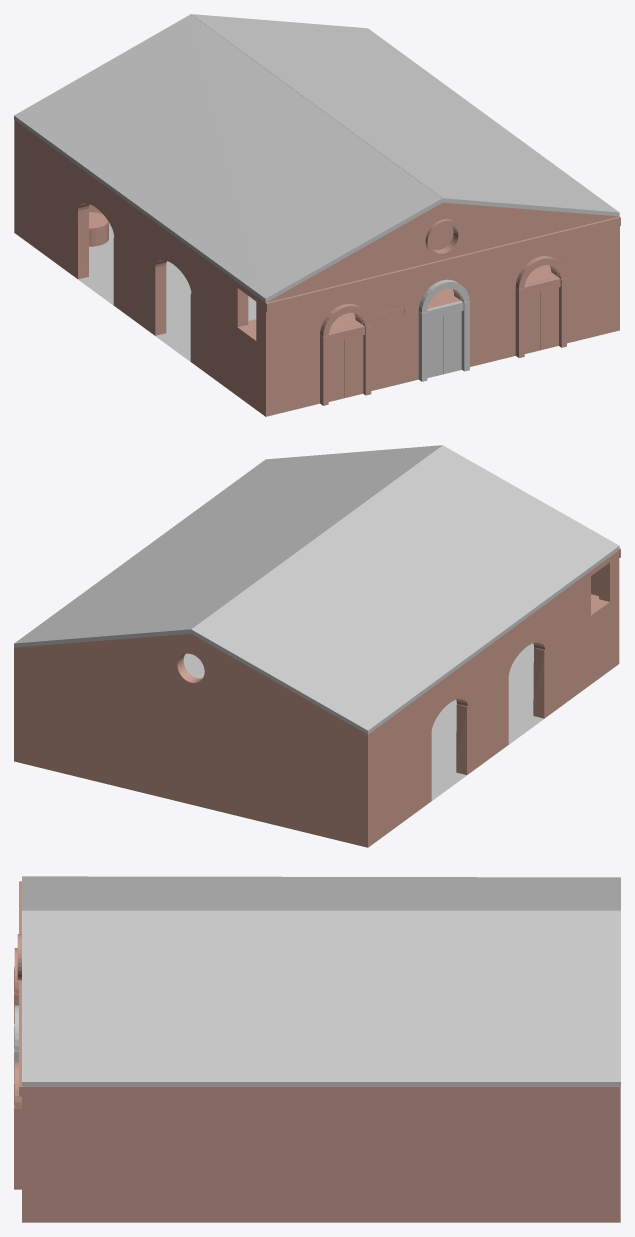
File: iphan_v10.obj
The picture shows the model from 3 angles, top to bottom: view 1: azimuth 30°, elevation 25°; view 2: azimuth 150°, elevation 25°; view 3: azimuth 270°, elevation 25°; orthographic projection. The views are drawn at different scales.
Parts seen in each view (by area): view 1: Ceiling, Room, Floor, Building_Frame, Door_Frame.001, Door_Frame.003, Door_Frame.002, Door_Two_Right, Door_One_Right, Door_Three_Right, Door_One_Left, Door_Two_Left (+4 smaller); view 2: Ceiling, Room, Floor; view 3: Ceiling, Room, Door_Frame.003, Building_Frame.
Part boxes in pixels (x1,y1,x2,y2): Ceiling: (14,14,619,302); Room: (14,120,619,416); Floor: (15,222,265,416); Building_Frame: (265,216,620,312); Door_Frame.001: (418,279,469,381); Door_Frame.003: (515,256,566,357); Door_Frame.002: (320,303,371,405); Door_Two_Right: (344,335,363,397); Door_One_Right: (443,311,461,374); Door_Three_Right: (540,287,558,350); Door_One_Left: (427,316,443,378); Door_Two_Left: (328,340,344,401); Ceiling: (14,445,619,734); Room: (14,550,619,847); Floor: (183,643,618,847); Ceiling: (22,876,620,1086); Room: (22,1086,620,1222); Door_Frame.003: (14,1061,21,1189); Building_Frame: (19,881,21,1096).
Bounding box in the file's own units: 13.01 × 6.16 × 16.22.
